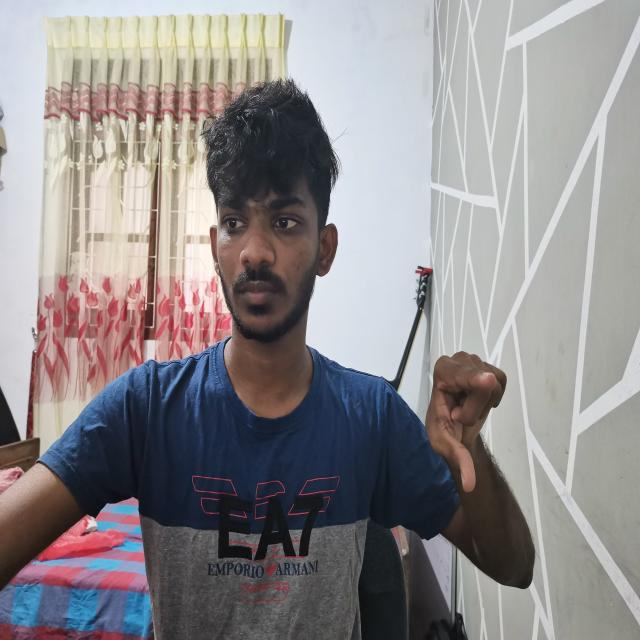No: (422, 343, 522, 508)
